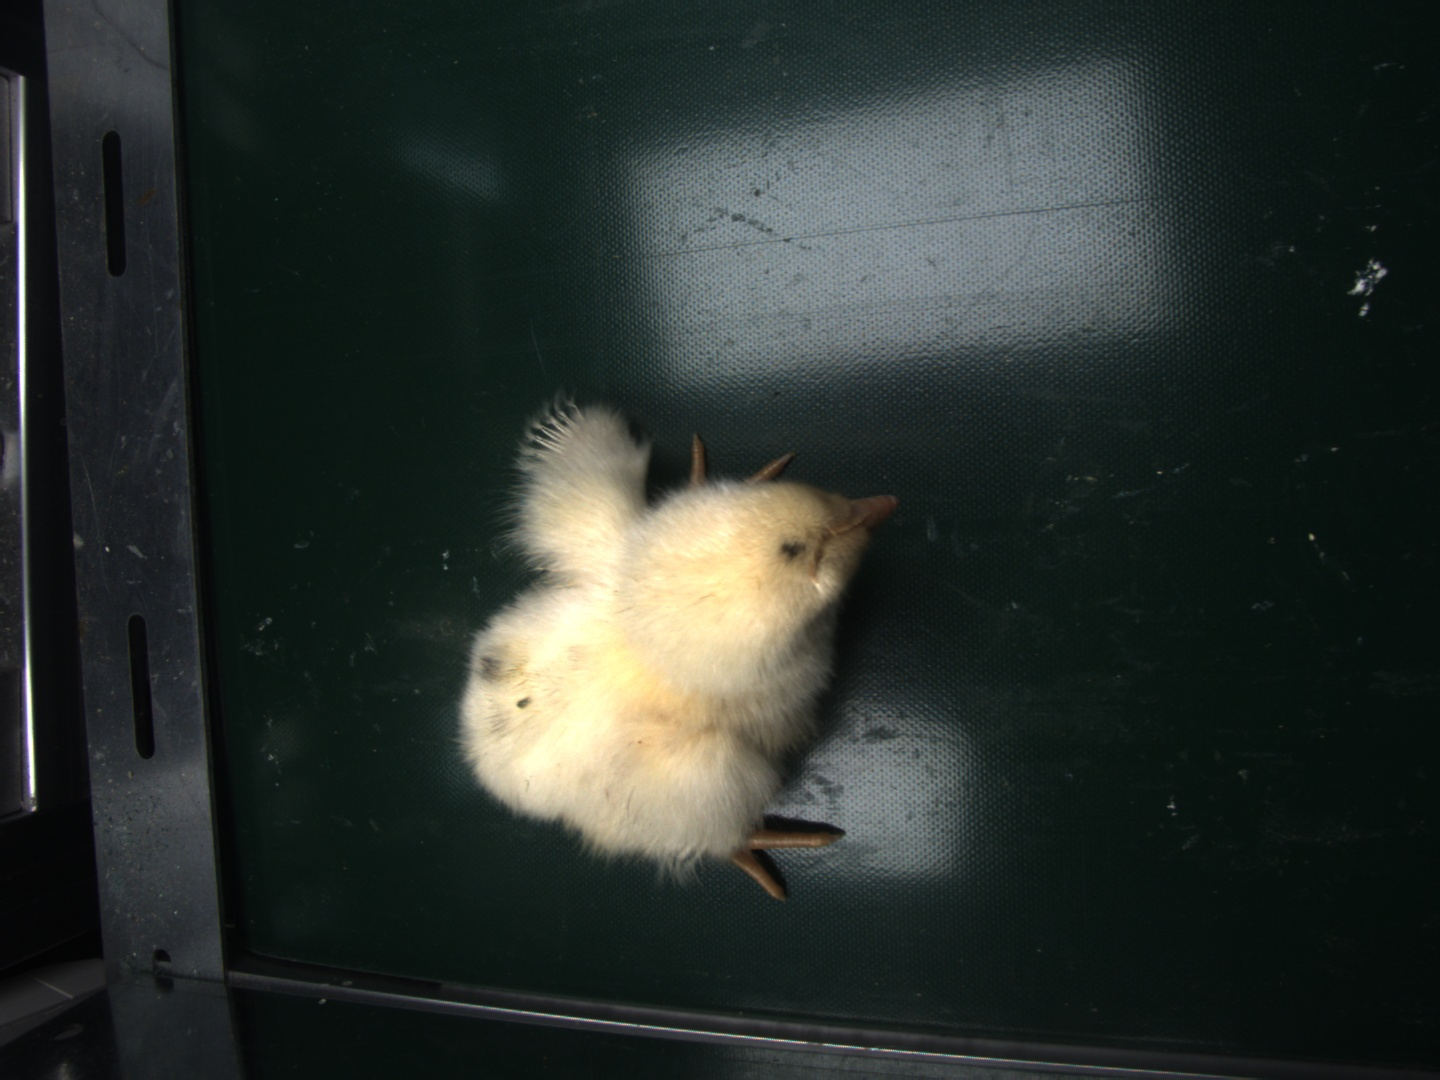male: (535, 410, 585, 462)
